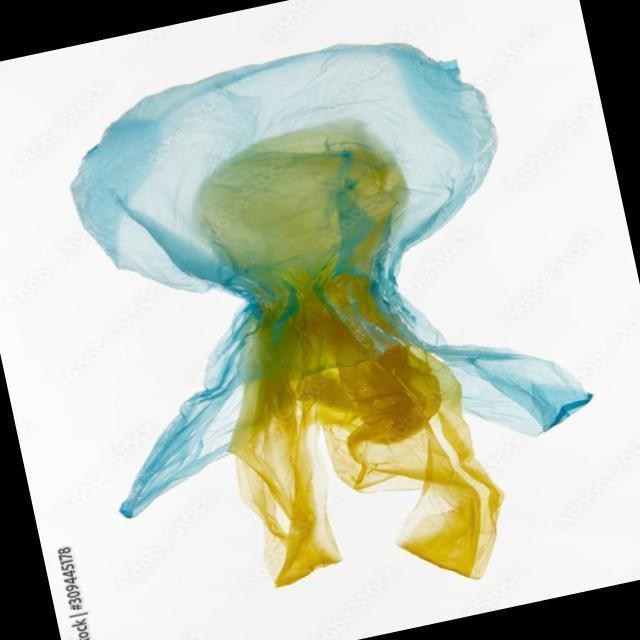Plastic_Bag: (36, 9, 606, 629)
